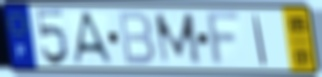5: (35, 8, 71, 68)
A: (71, 10, 116, 66)
B: (116, 10, 157, 67)
F: (205, 10, 244, 70)
I: (251, 12, 269, 67)
M: (152, 11, 205, 67)
